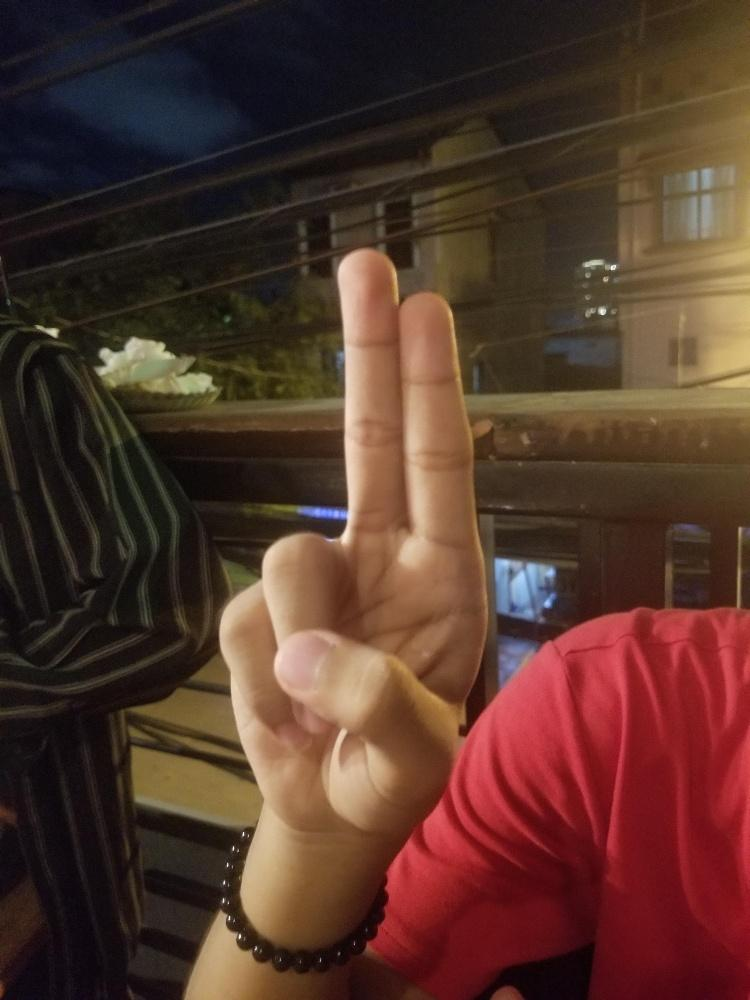u: (215, 245, 490, 834)
